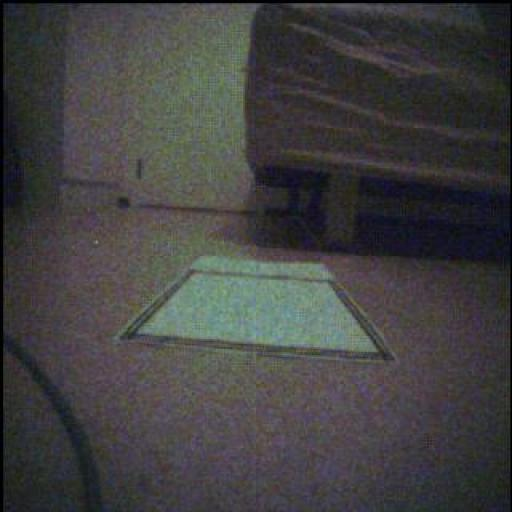pad: (118, 257, 395, 361)
